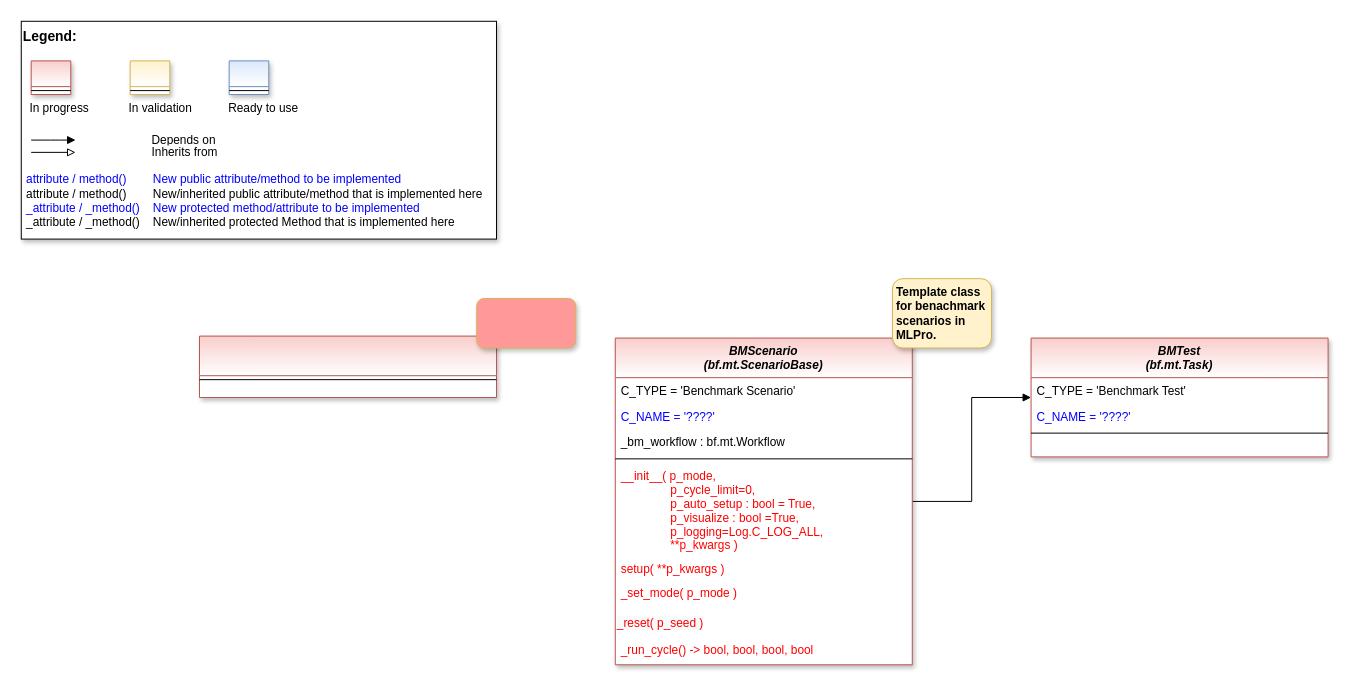
Image size: 1351x689. Some labels were removed from this diagram. The shapes that lost their labels are listed below. From the top down, each one's centre as x and y in pixels, then its label:
At [527,324]: "Beware! This is a layer2 class.".
At [348,367]: "BMParameter (bf.math.Dimension)".
